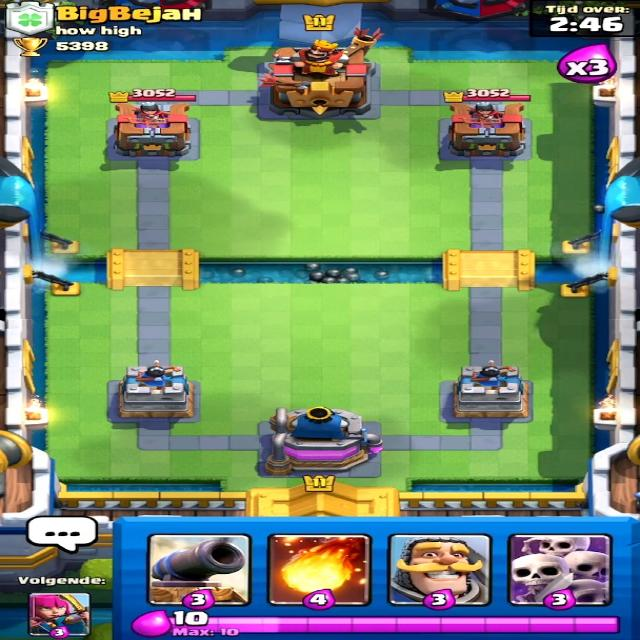Cannon_Card: (146, 531, 255, 605)
Fireball_Card: (270, 532, 366, 607)
